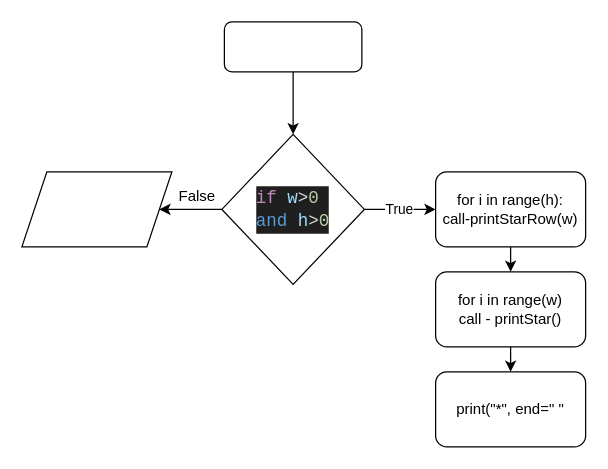
This 608x469 diagram has some shape labels left out. Each missing label, with the box of its shape:
call-printStarRect(w,h): (223, 21, 362, 72)
print("dimension can not be negative"): (21, 171, 172, 247)
